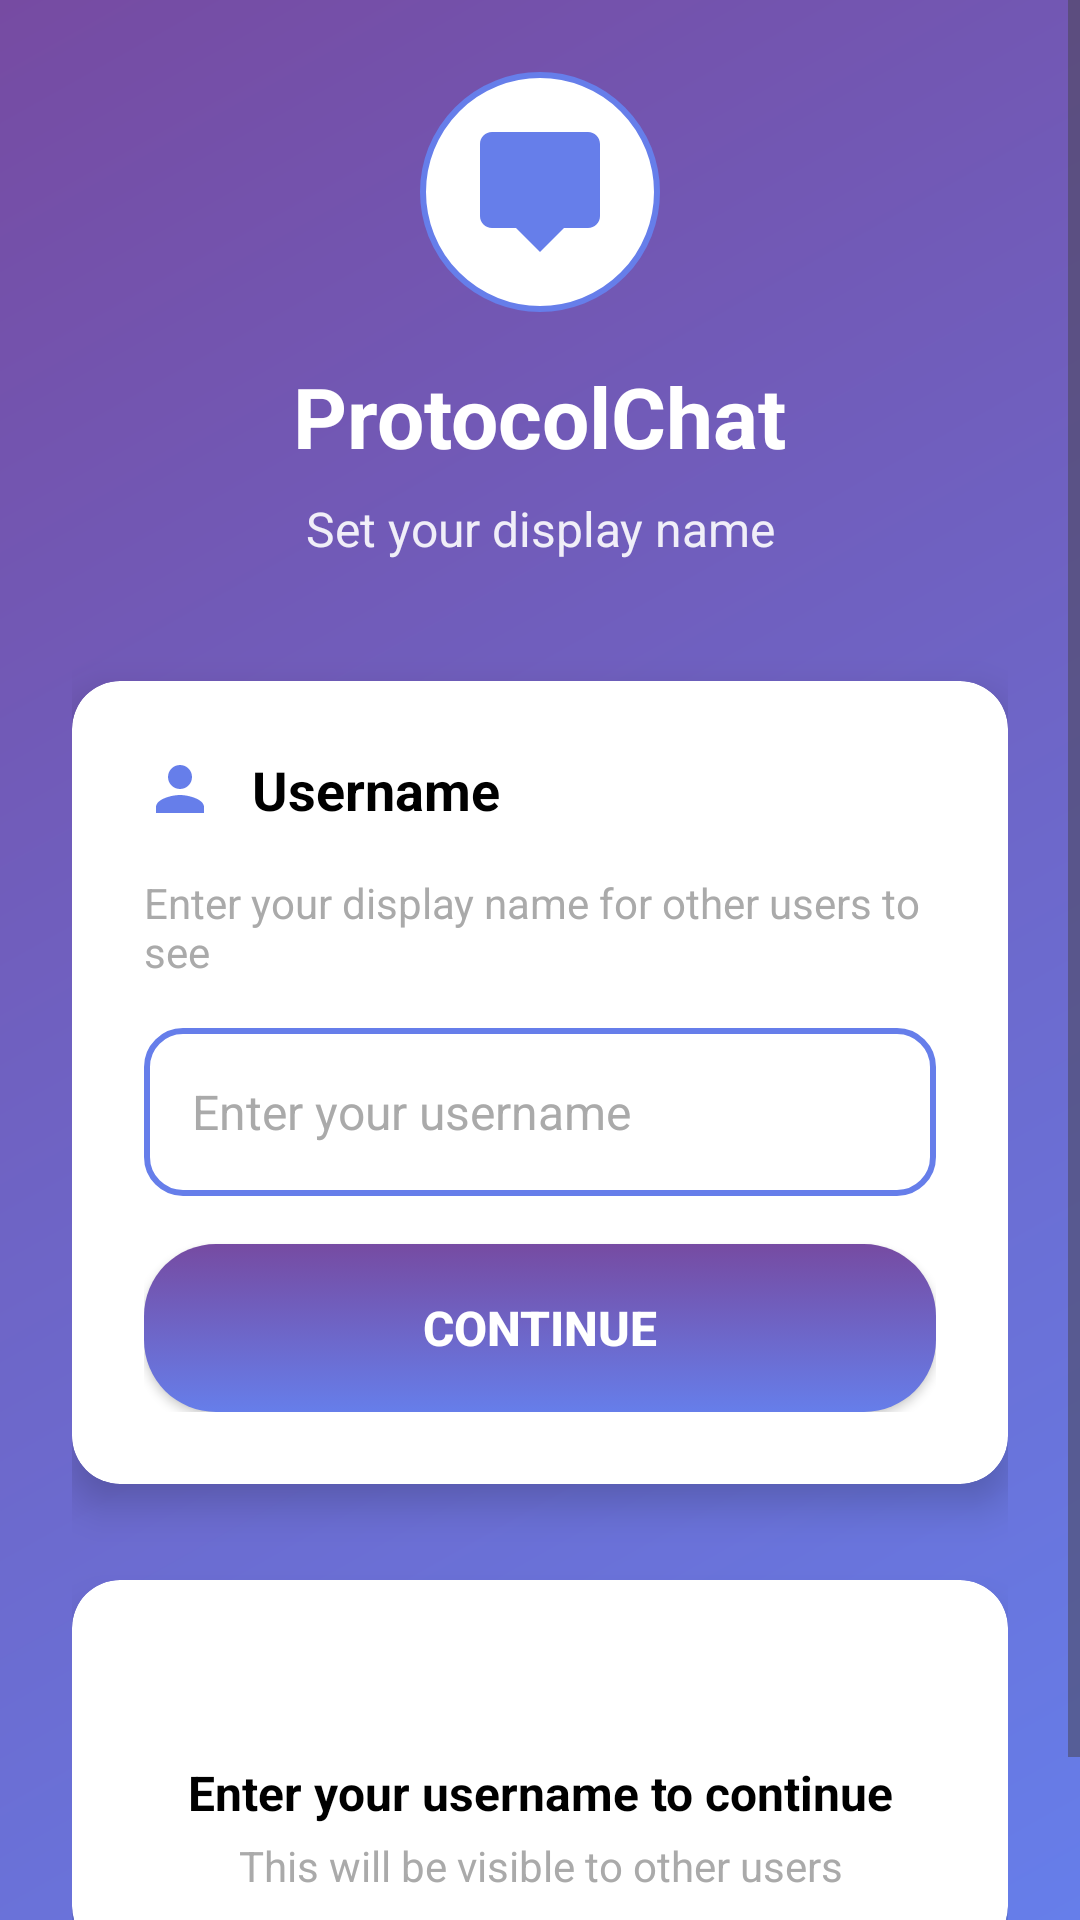

Icon bounding boxes for this 1080x1920 phone screenshot, format (x1, y1, x2, y2):
chat bubble: (420, 72, 660, 312)
person: (156, 765, 204, 813)
